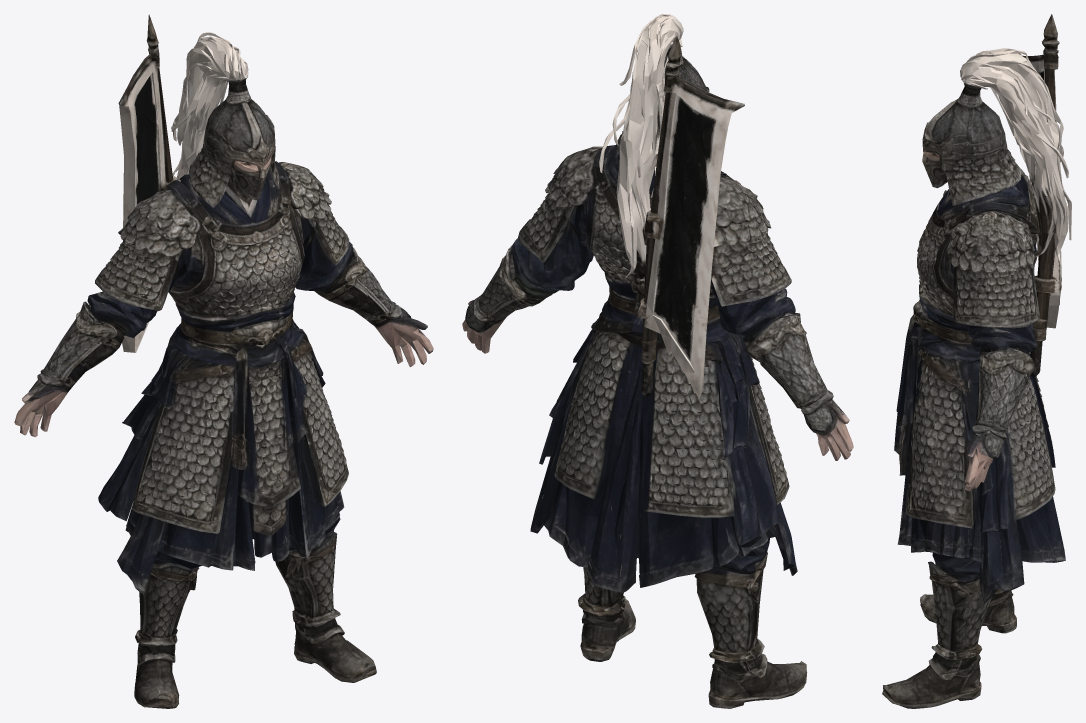
The model's file is glb.glb.
3 renders of one model, left to right at view 1: azimuth 30°, elevation 25°; view 2: azimuth 150°, elevation 25°; view 3: azimuth 270°, elevation 25°, orthographic. The views are drawn at different scales.
Size of the model in its own units: 1.21 by 1.9 by 0.5225.
1 material, 1 textured.
